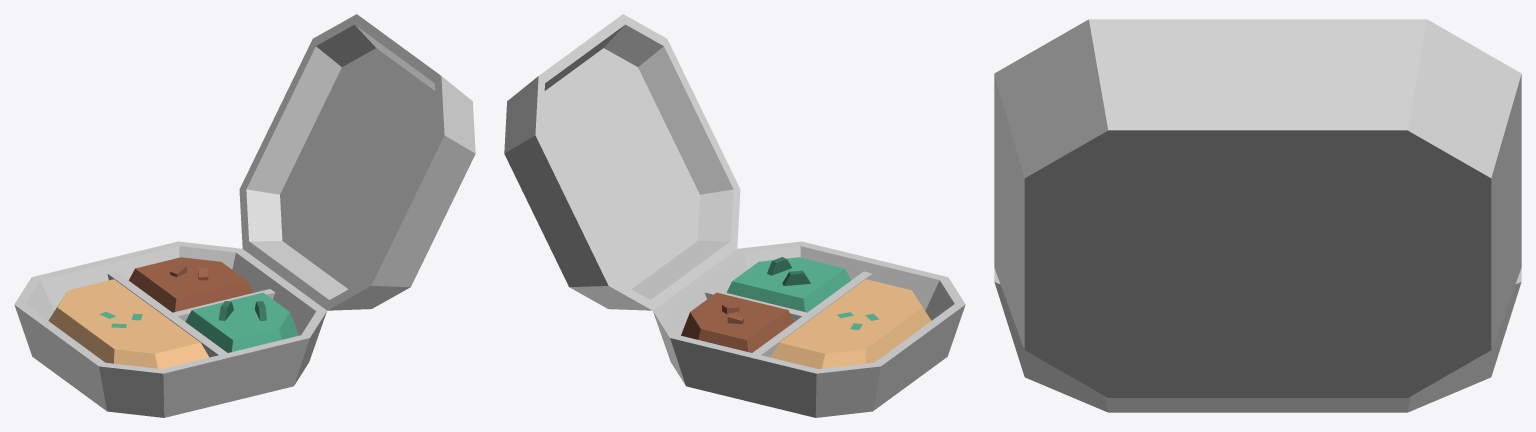
File: styrofoamDinner.obj
3 views of the same model, side by side, from view 1: azimuth 30°, elevation 25°; view 2: azimuth 150°, elevation 25°; view 3: azimuth 270°, elevation 25° (orthographic). The views are drawn at different scales.
Visible parts, largest first — view 1: lid, styrofoamDinner; view 2: lid, styrofoamDinner; view 3: lid, styrofoamDinner.
Boxes of the visible parts, left/top/right/bottom form: lid: left=239, top=14, right=475, bottom=310; styrofoamDinner: left=14, top=241, right=326, bottom=417; lid: left=504, top=14, right=740, bottom=310; styrofoamDinner: left=653, top=241, right=965, bottom=417; lid: left=994, top=19, right=1521, bottom=397; styrofoamDinner: left=994, top=268, right=1521, bottom=412.
Size of the model in its own units: 1.26 by 0.822 by 0.7589.
